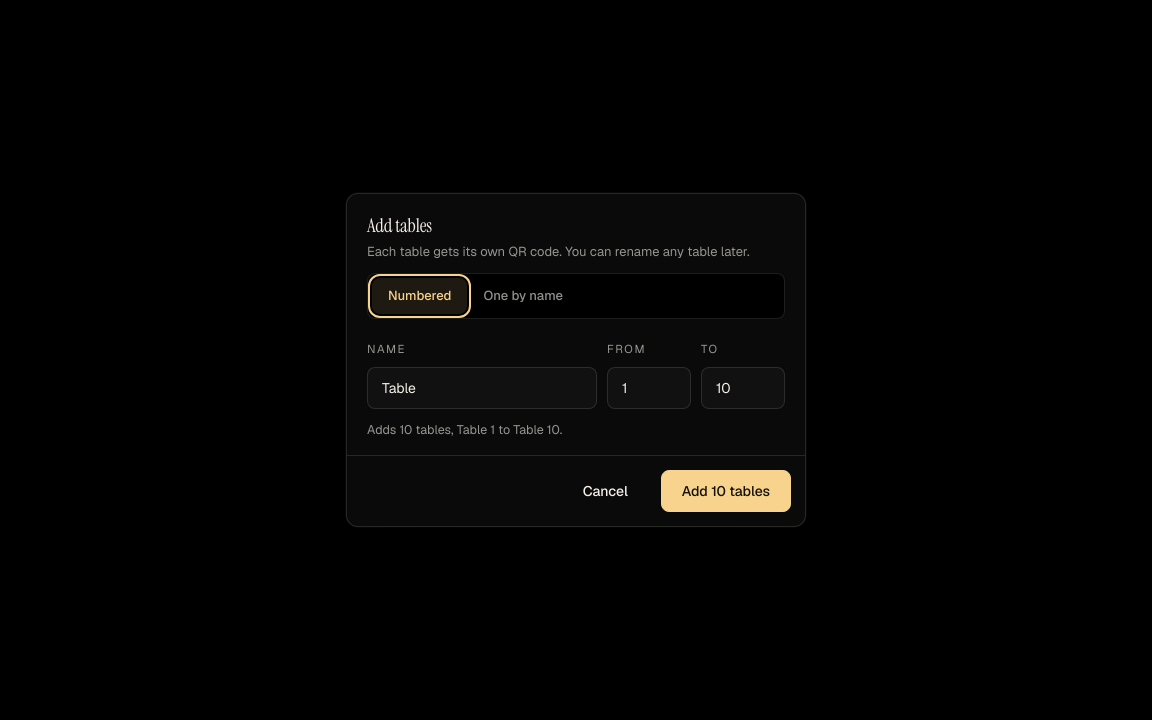
AddTablesDialog › stays open while the tables are being added, then closes
Click the tab "One by name" at (523, 296), box [468,278,579,314]
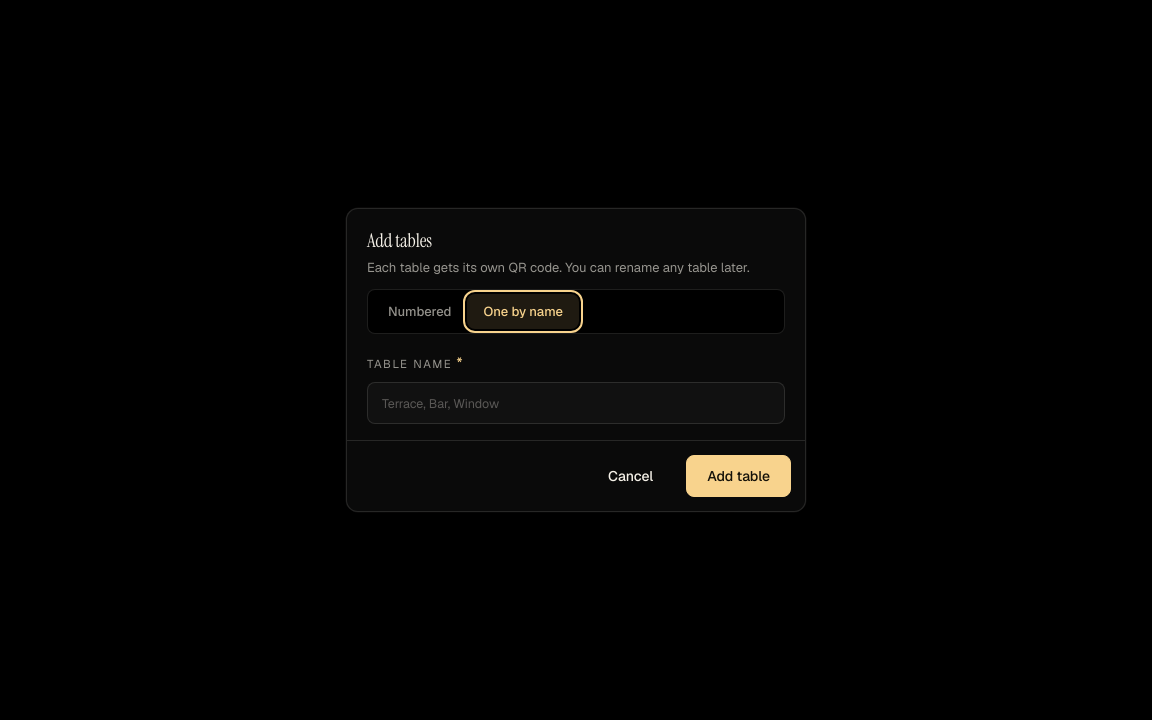
Type "Bar" into the field labelled "Table name*" at (576, 403), box [368,383,784,423]
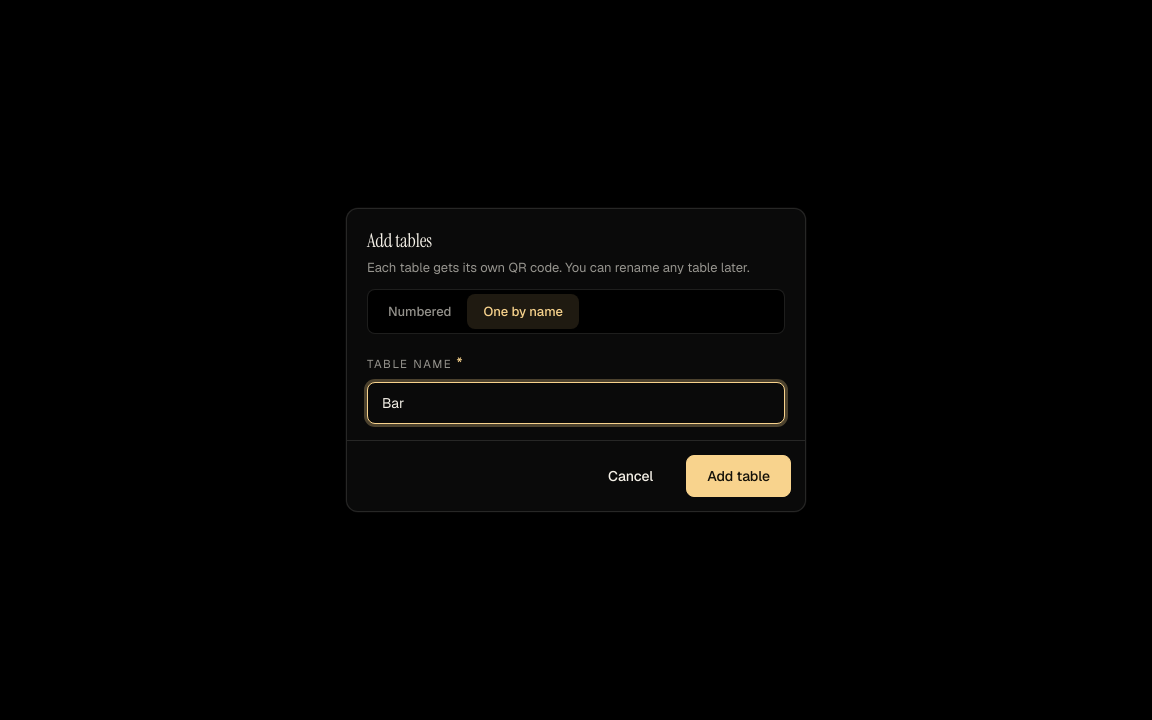
Click the button "Add table" at (739, 476), box [686,455,791,497]
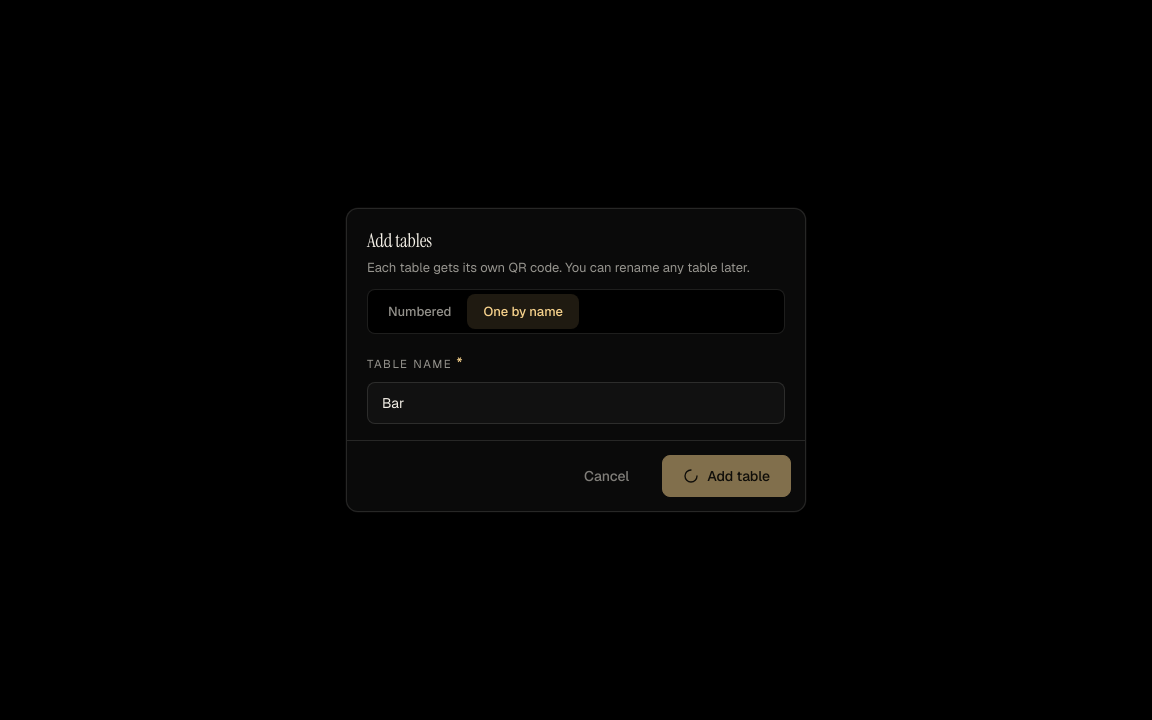
expect the button "Add table" has attribute aria-busy="true": met, box [662,455,791,497]
Click the dialog at (576, 360), box [346,208,806,512]
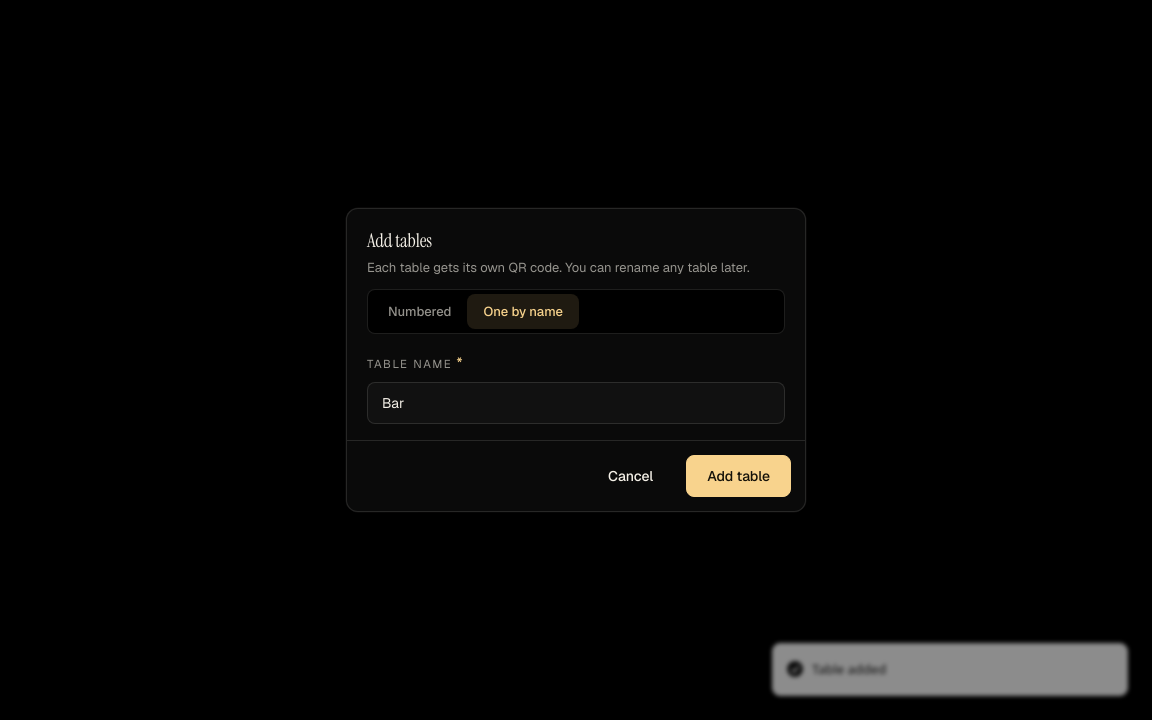
expect the text "Table added" is shown: met, box [812,660,886,679]
